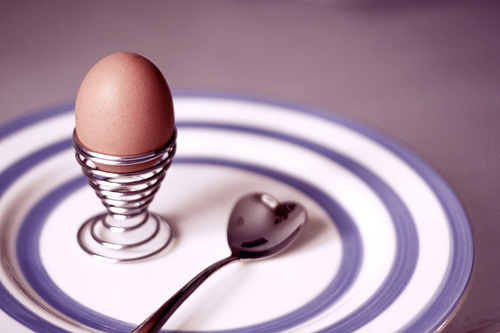egg: (73, 48, 171, 175)
